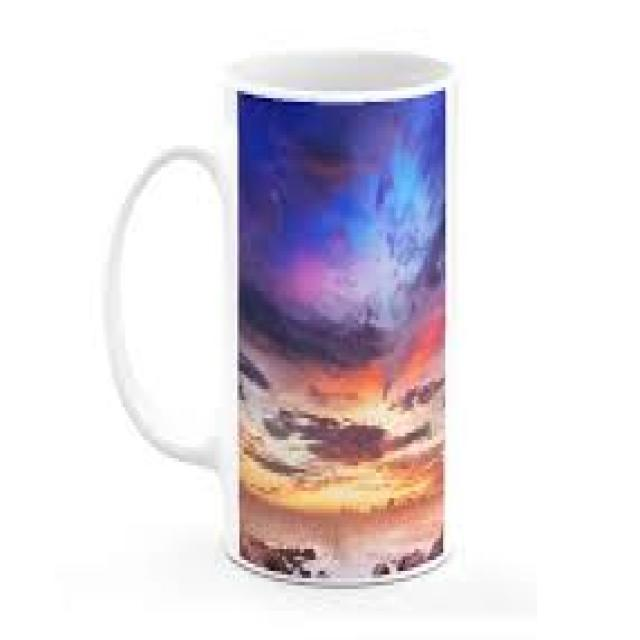taza: (100, 48, 462, 589)
